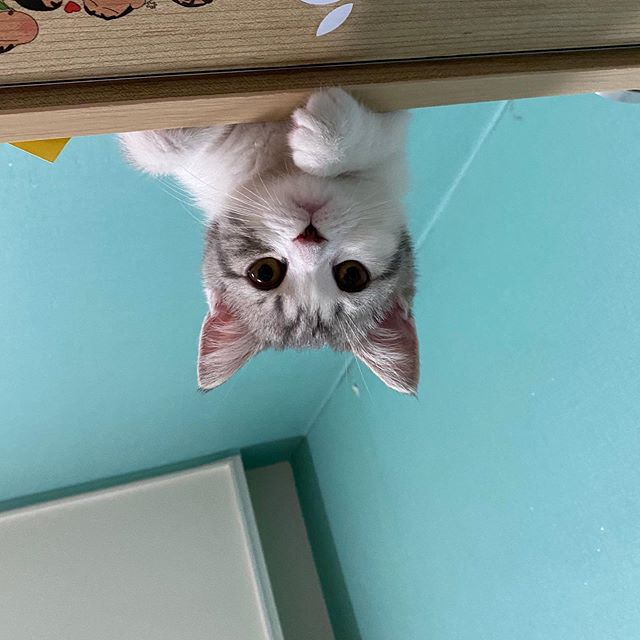cat: (188, 163, 434, 398)
